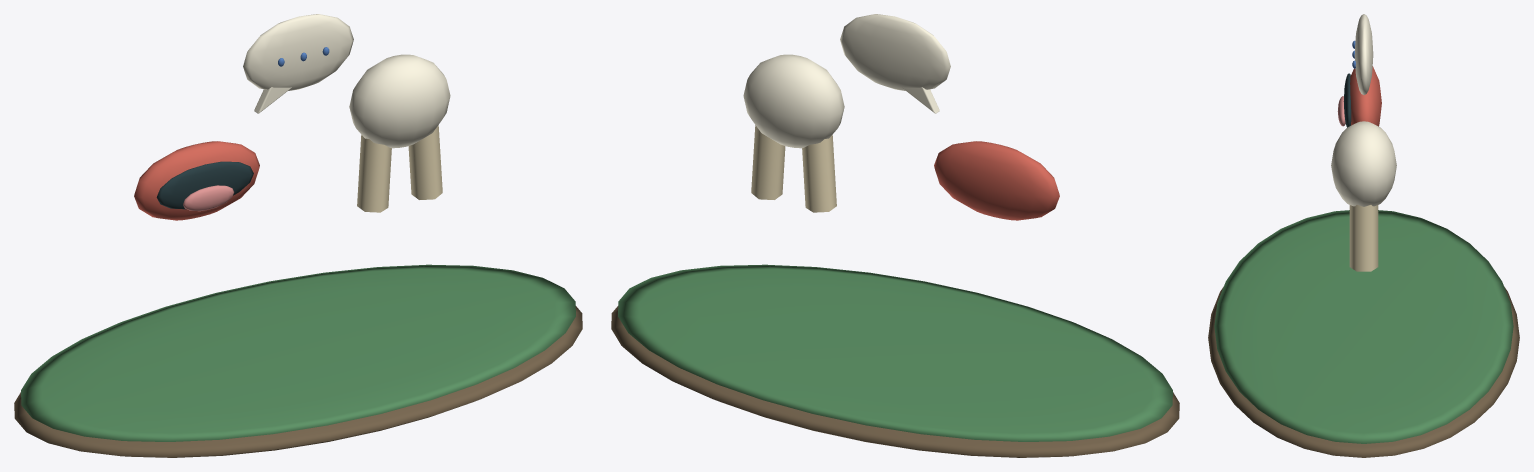
Rendered from complete-second-tooth-exclamation.glb.
The picture shows the model from 3 angles, left to right: view 1: azimuth 30°, elevation 25°; view 2: azimuth 150°, elevation 25°; view 3: azimuth 270°, elevation 25°; orthographic projection. The views are drawn at different scales.
Visible parts, largest first — view 1: complete-second-tooth-exclamation_surface_01, complete-second-tooth-exclamation_surface_05, complete-second-tooth-exclamation_surface_00, complete-second-tooth-exclamation_surface_06, complete-second-tooth-exclamation_surface_02, complete-second-tooth-exclamation_surface_03, complete-second-tooth-exclamation_surface_04; view 2: complete-second-tooth-exclamation_surface_01, complete-second-tooth-exclamation_surface_05, complete-second-tooth-exclamation_surface_00, complete-second-tooth-exclamation_surface_02, complete-second-tooth-exclamation_surface_06; view 3: complete-second-tooth-exclamation_surface_01, complete-second-tooth-exclamation_surface_00, complete-second-tooth-exclamation_surface_05, complete-second-tooth-exclamation_surface_06, complete-second-tooth-exclamation_surface_02, complete-second-tooth-exclamation_surface_03.
Part boxes in pixels (<box>): complete-second-tooth-exclamation_surface_01: <box>21,264,575,441</box>; complete-second-tooth-exclamation_surface_05: <box>243,14,450,148</box>; complete-second-tooth-exclamation_surface_00: <box>14,306,582,457</box>; complete-second-tooth-exclamation_surface_06: <box>357,125,442,212</box>; complete-second-tooth-exclamation_surface_02: <box>134,141,259,220</box>; complete-second-tooth-exclamation_surface_03: <box>156,161,253,209</box>; complete-second-tooth-exclamation_surface_04: <box>183,185,234,211</box>; complete-second-tooth-exclamation_surface_01: <box>618,264,1172,441</box>; complete-second-tooth-exclamation_surface_05: <box>743,14,950,148</box>; complete-second-tooth-exclamation_surface_00: <box>611,306,1179,457</box>; complete-second-tooth-exclamation_surface_02: <box>934,141,1059,220</box>; complete-second-tooth-exclamation_surface_06: <box>751,125,836,212</box>; complete-second-tooth-exclamation_surface_01: <box>1214,210,1513,443</box>; complete-second-tooth-exclamation_surface_00: <box>1208,287,1519,457</box>; complete-second-tooth-exclamation_surface_05: <box>1331,14,1396,206</box>; complete-second-tooth-exclamation_surface_06: <box>1349,205,1378,271</box>; complete-second-tooth-exclamation_surface_02: <box>1350,66,1381,126</box>; complete-second-tooth-exclamation_surface_03: <box>1343,73,1351,127</box>.
Size of the model in its own units: 4.56 by 2.93 by 2.5.
